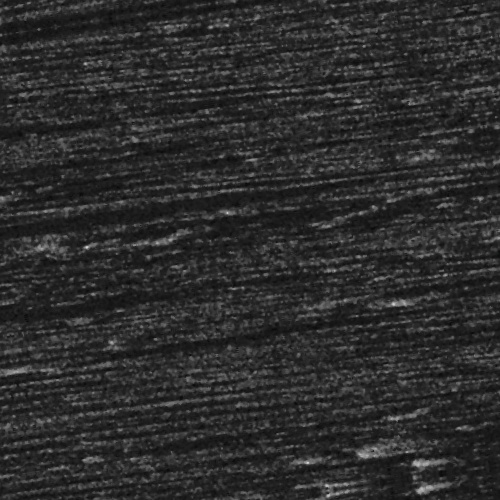object: (354, 315, 459, 326), (133, 218, 226, 229), (7, 152, 80, 163), (0, 152, 64, 163), (0, 328, 69, 335), (7, 475, 38, 486), (28, 207, 59, 214), (0, 163, 37, 168), (56, 429, 97, 432)
shadow: (27, 152, 283, 163), (44, 152, 300, 163), (0, 273, 255, 284), (0, 0, 368, 7), (16, 328, 354, 335), (180, 218, 355, 229), (0, 24, 220, 31), (0, 131, 187, 138), (407, 315, 498, 326), (23, 475, 107, 486), (17, 163, 187, 168), (77, 429, 333, 432), (0, 164, 147, 169), (44, 207, 129, 214), (0, 95, 30, 102), (0, 148, 41, 153)
